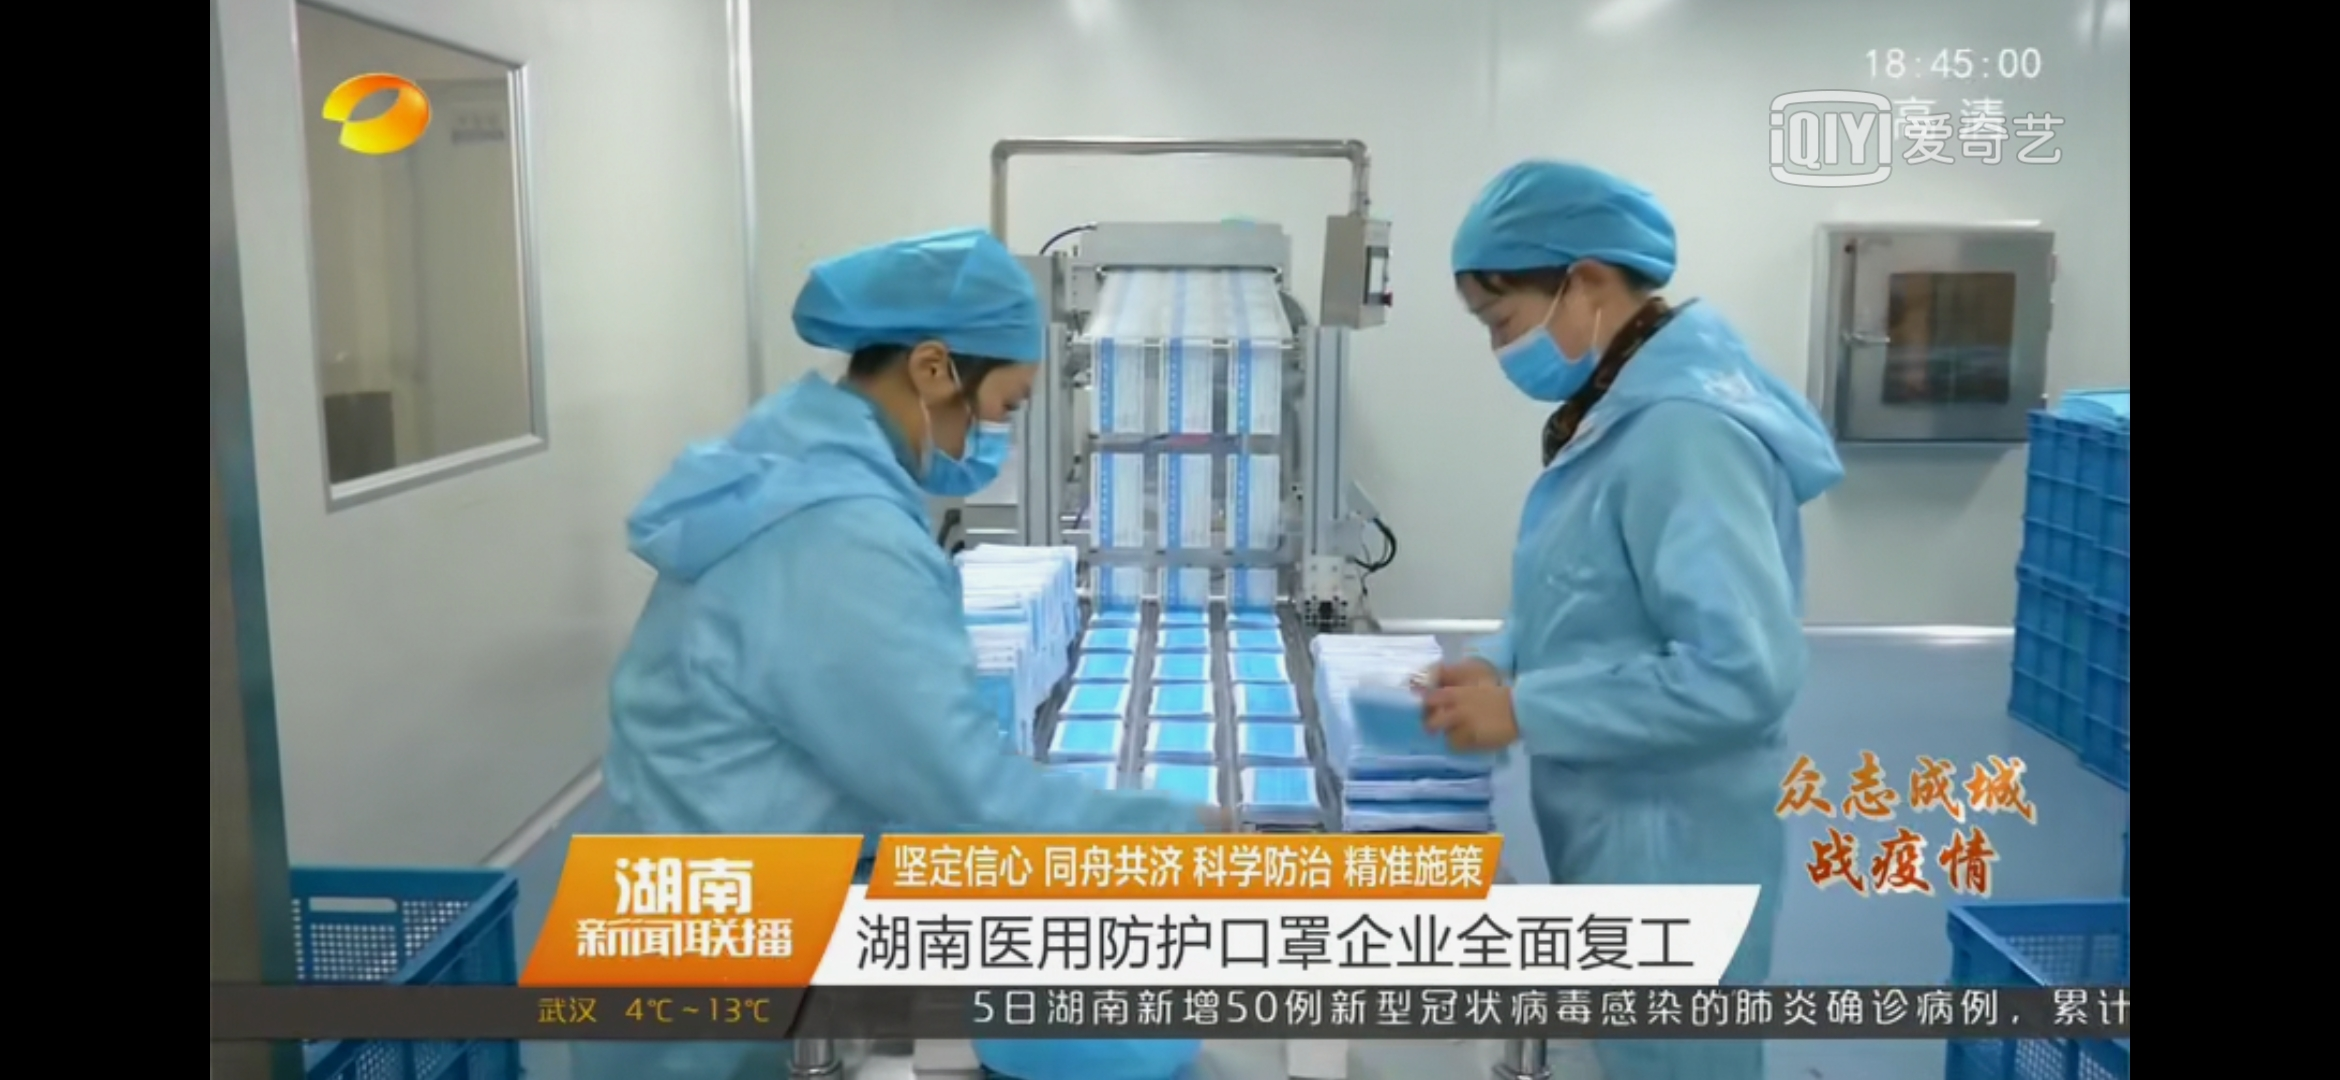correctlyWear: (900, 318, 1042, 501), (1454, 257, 1625, 406)
